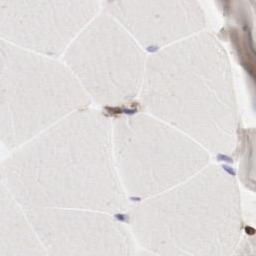nucleus: (112, 213, 131, 222), (222, 164, 236, 175), (217, 153, 233, 162), (145, 45, 159, 53), (130, 196, 141, 202), (123, 110, 136, 115)
positive_cell: (102, 101, 143, 117)
